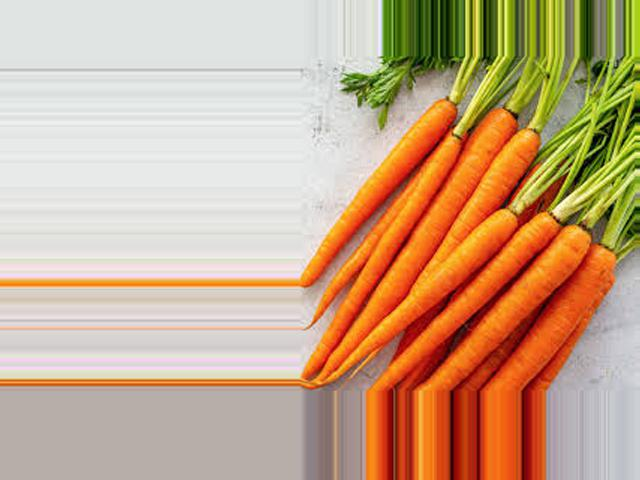carrot: (506, 242, 617, 392)
